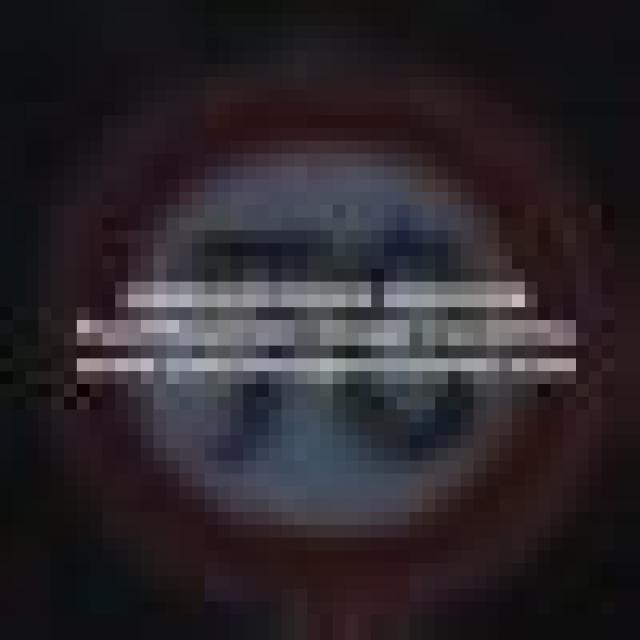SPEED_LIMIT_70: (39, 76, 602, 602)
